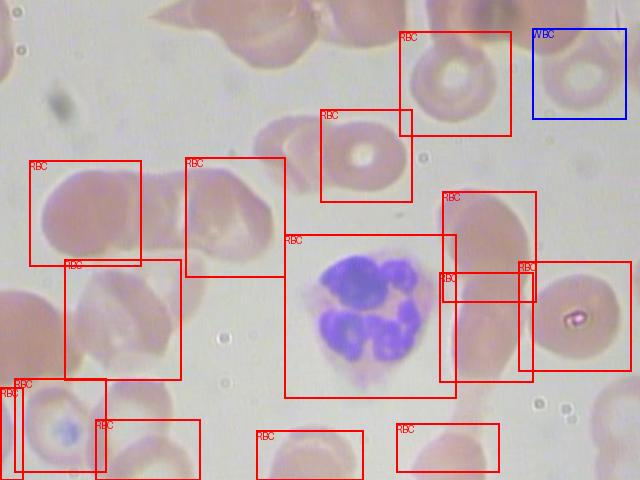RBC: (284, 234, 456, 398), (64, 259, 181, 380), (518, 261, 631, 371), (185, 157, 285, 277), (29, 160, 141, 266), (399, 31, 511, 136), (442, 191, 536, 302), (439, 272, 533, 382), (14, 378, 106, 472), (320, 109, 412, 202), (95, 419, 200, 480), (256, 430, 363, 480), (396, 423, 499, 472), (0, 387, 23, 480)
WBC: (532, 28, 626, 119)
